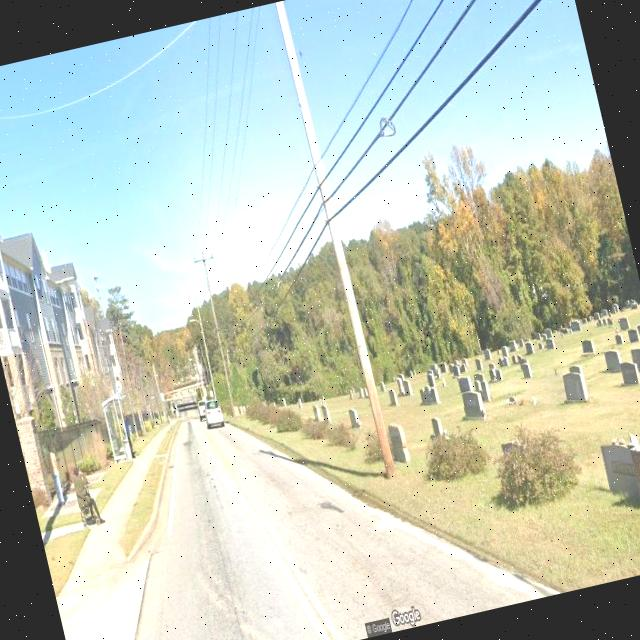shelter: (99, 392, 139, 464)
trash_can: (121, 438, 132, 460)
